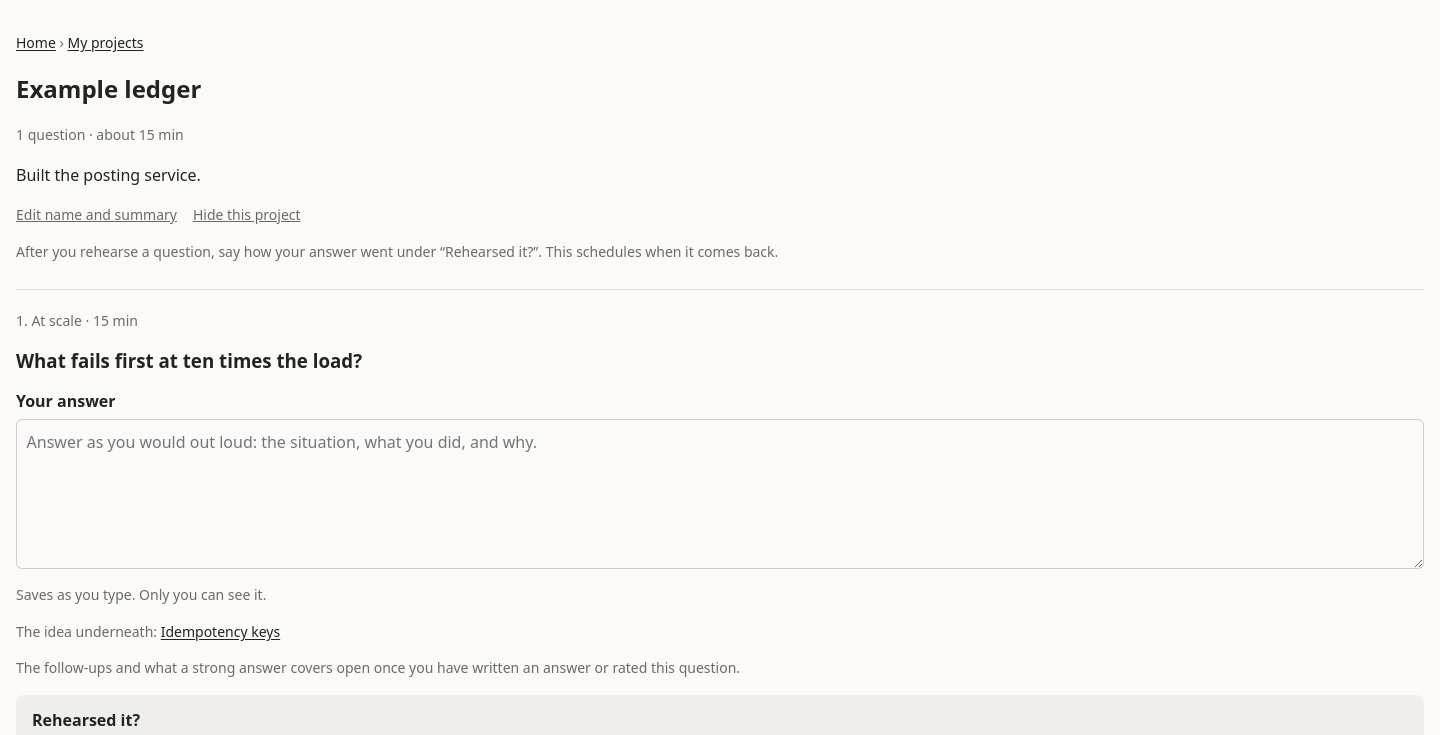
Test: ProjectPage › saves the answer when the box is left, and then unfolds
Replace the text in the text box labelled "Your answer" with "The single hot row.". click: (720, 494)
box: [16,420,1424,569]
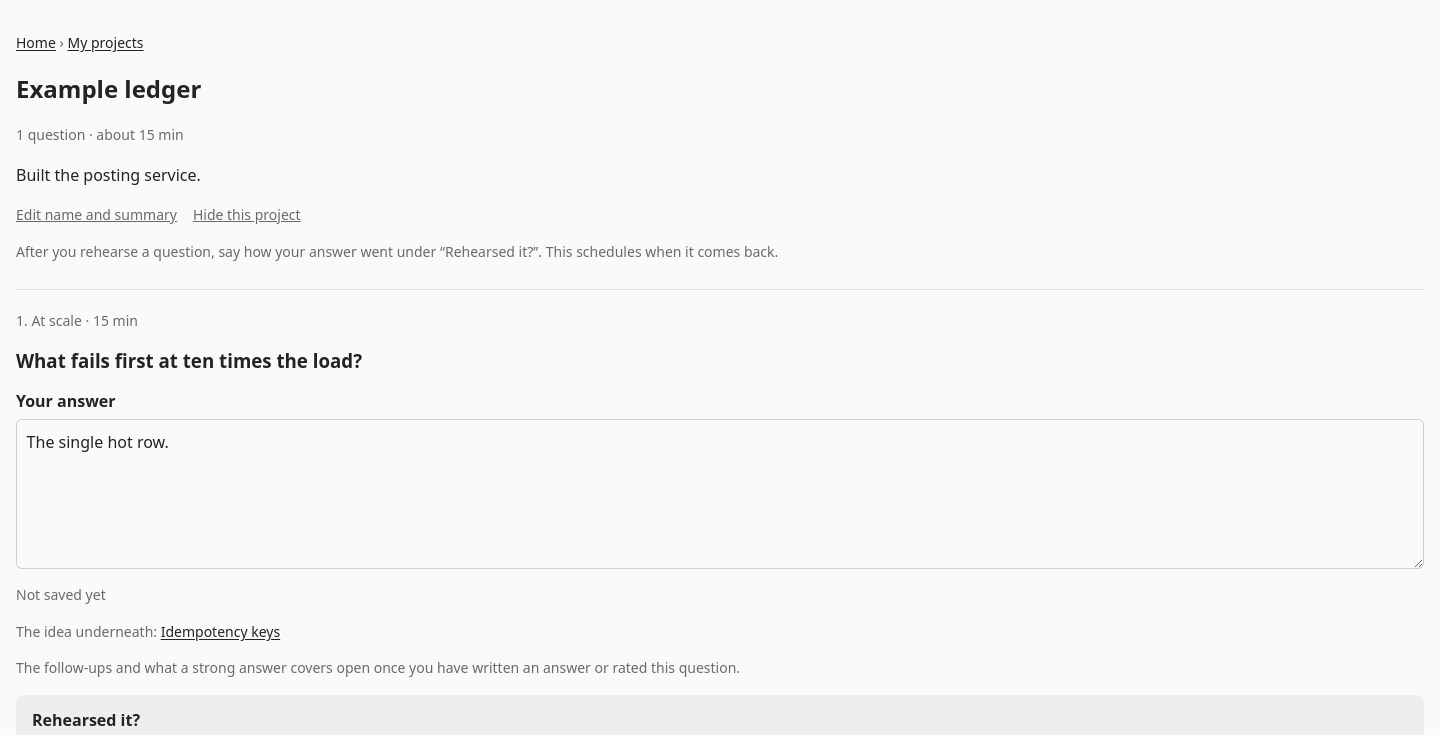
Result: the text "Not saved yet" is shown at [16,584,106,607]
Leave the text box labelled "Your answer", box [16,420,1424,569]
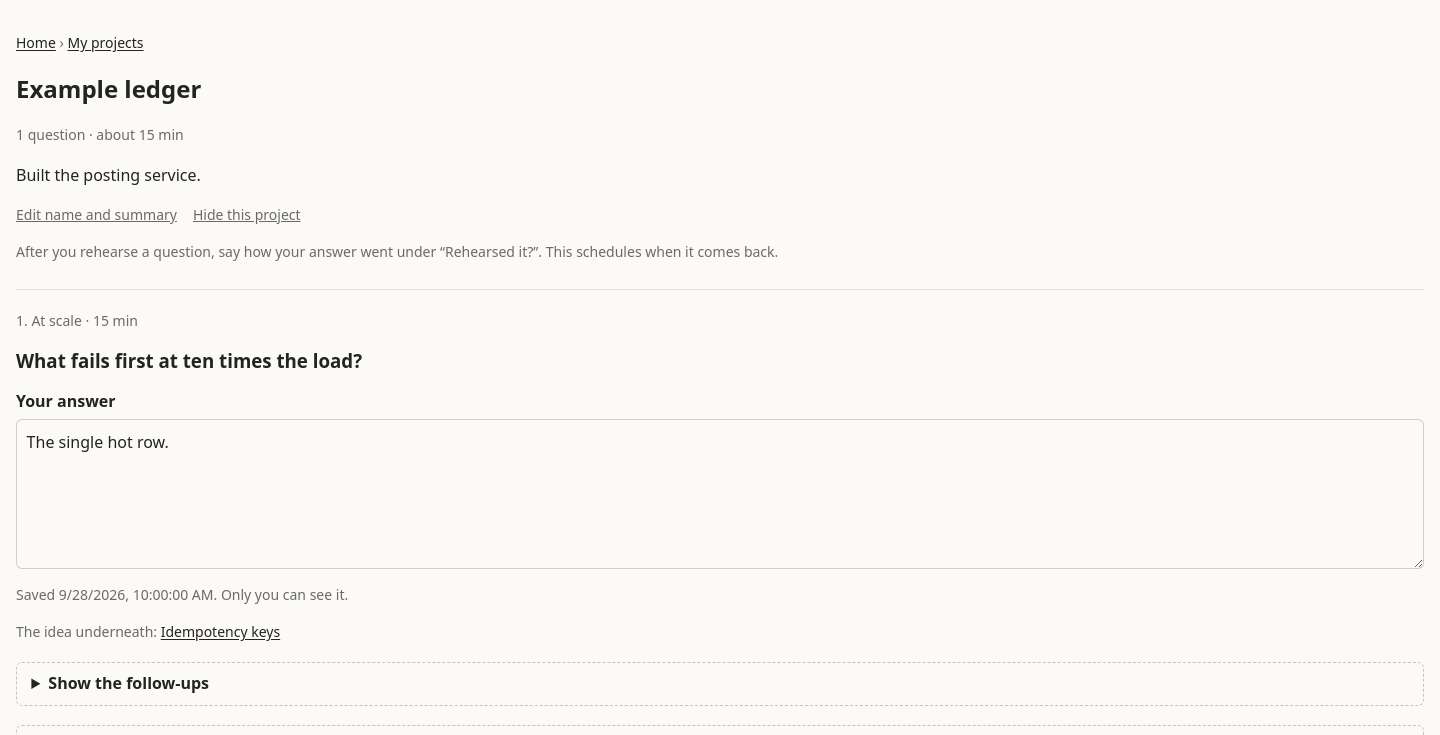
Result: the heading "Show the follow-ups" is shown at [48,672,209,694]
Result: the text "Saved 9/28/2026, 10:00:00 AM. Only you can see it." is shown at [16,584,348,607]
